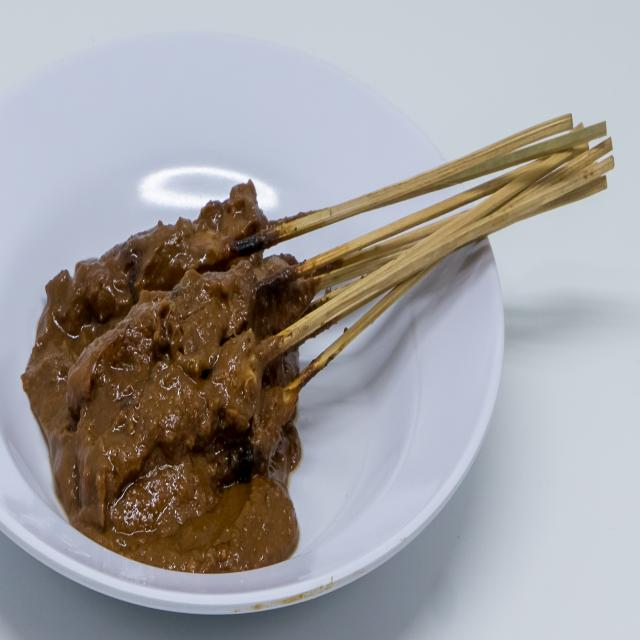Sate-Ayam: (32, 138, 356, 536)
